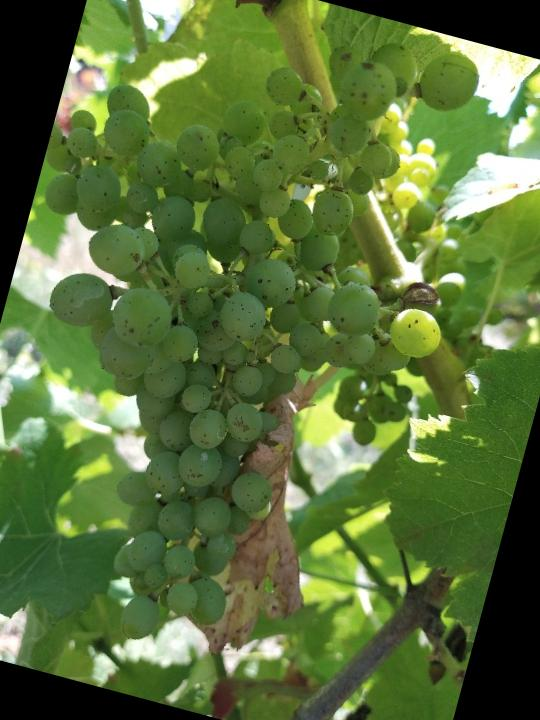grape: (0, 0, 516, 698)
